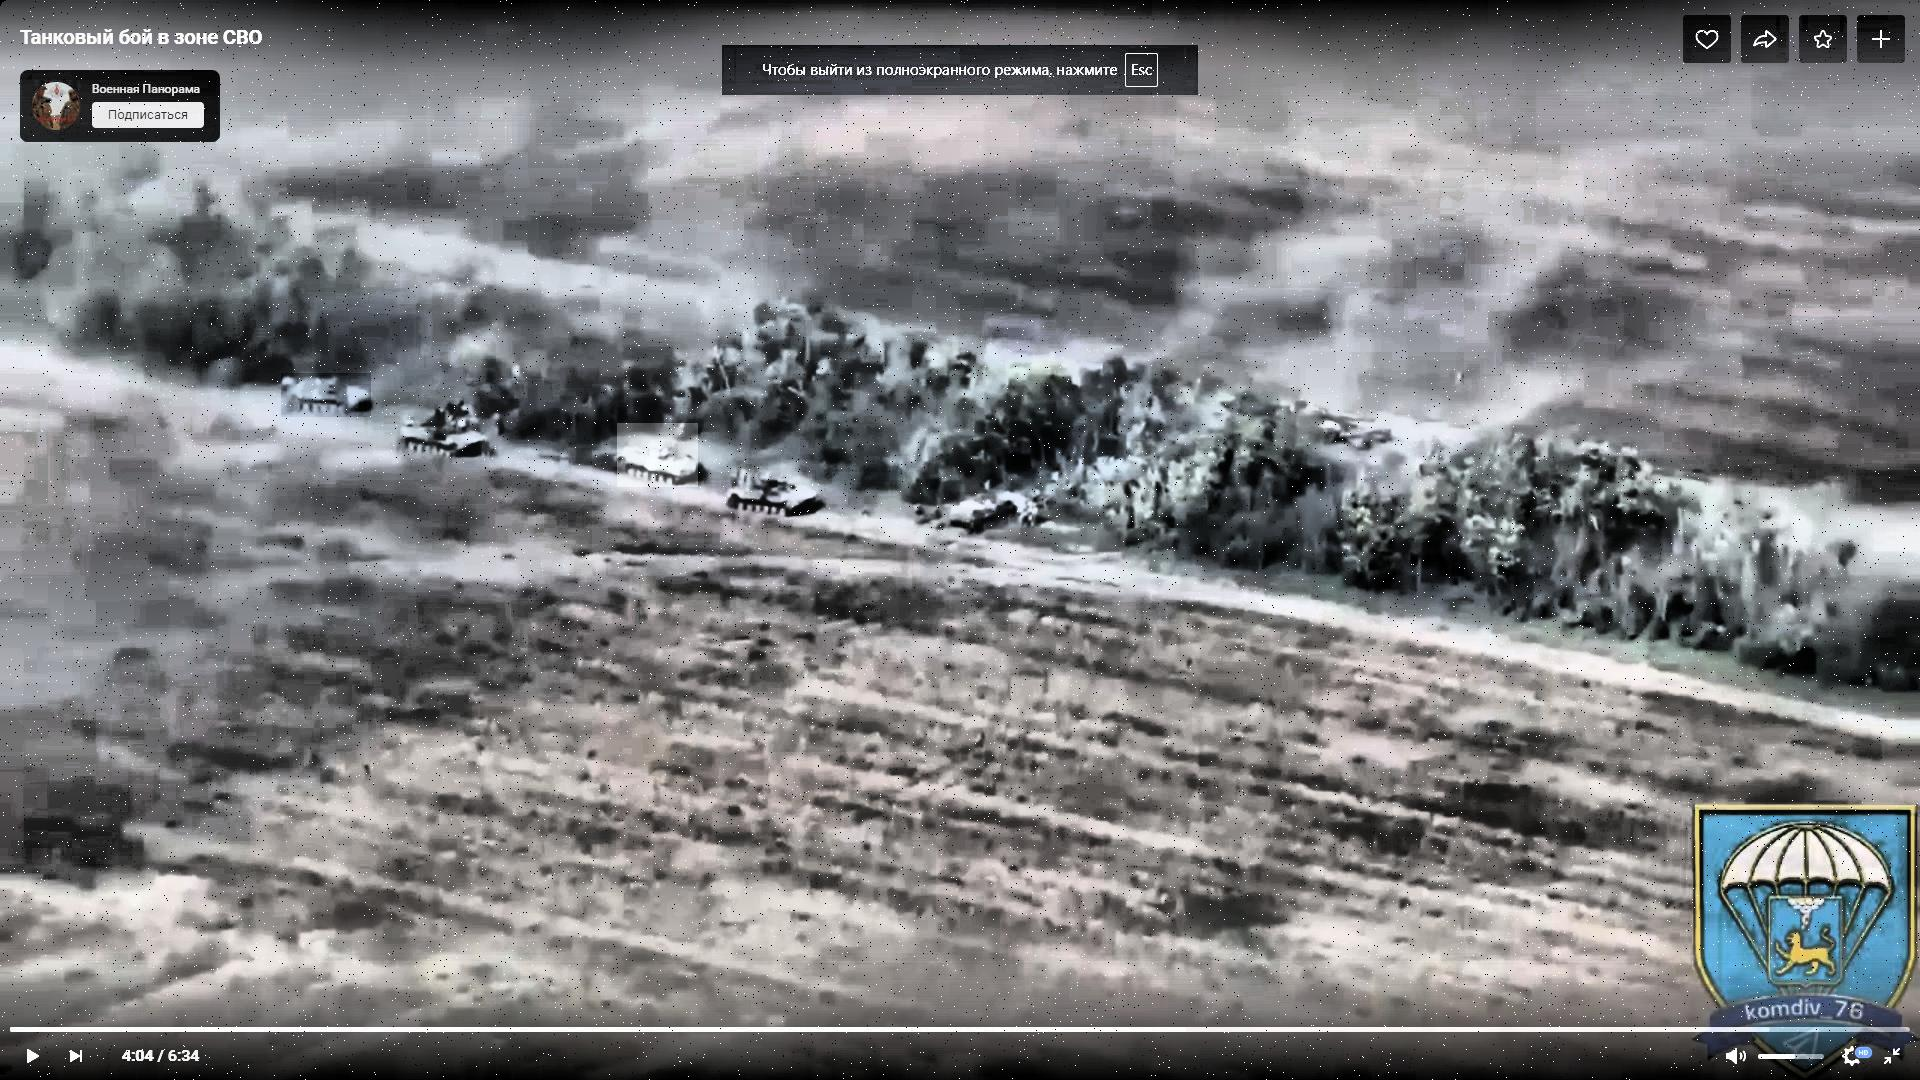military-vehicle: (617, 423, 698, 487), (400, 405, 485, 462), (282, 373, 372, 417)
